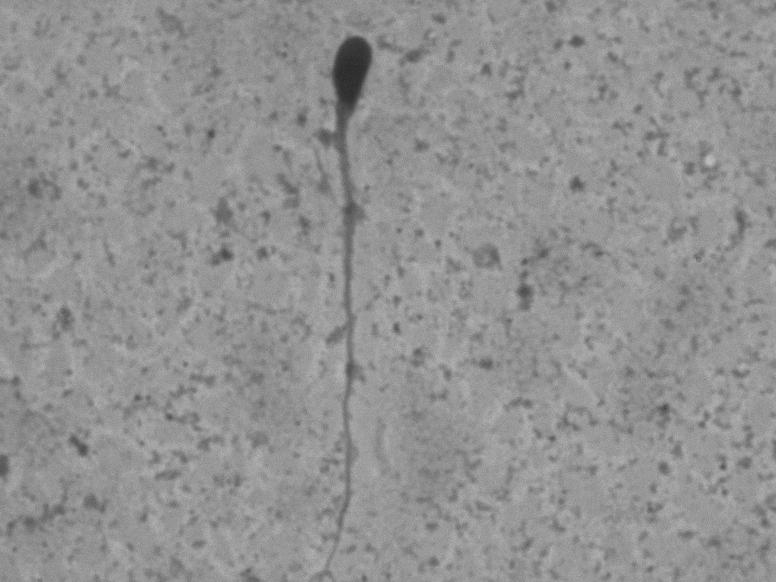Abnormal: (285, 23, 408, 563)
